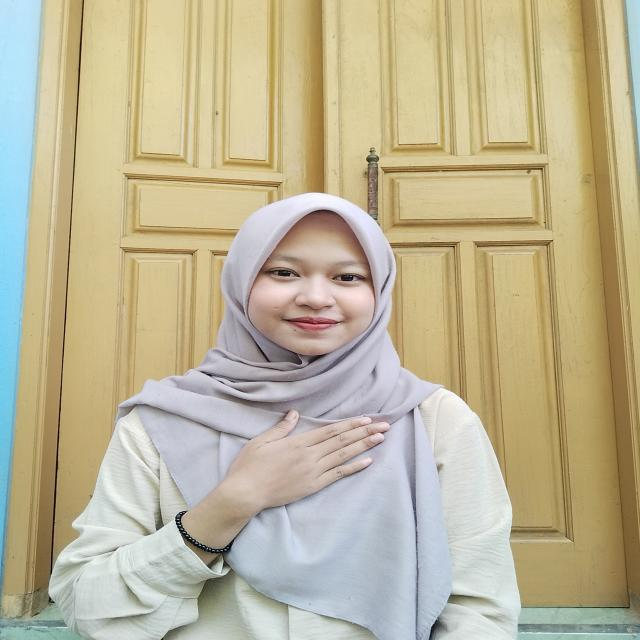tolong: (148, 403, 398, 541)
